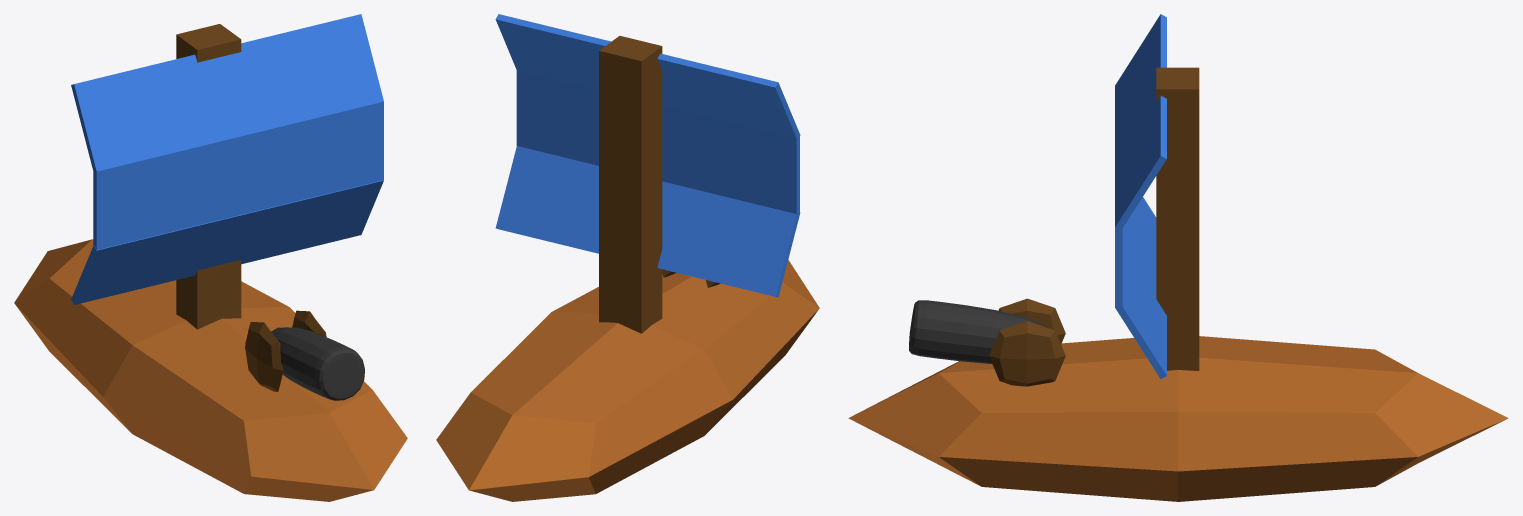
File: Level1Boat.fbx
3 renders of one model, left to right at view 1: azimuth 30°, elevation 25°; view 2: azimuth 150°, elevation 25°; view 3: azimuth 270°, elevation 25°, orthographic. The views are drawn at different scales.
Visible parts, largest first — view 1: Cube, Cube.006, Cube.003, Cube.007, Cube.002, Cube.008, Cube.004, Cube.005; view 2: Cube, Cube.007, Cube.002, Cube.003, Cube.006; view 3: Cube, Cube.002, Cube.006, Cube.007, Cube.008, Cube.005, Cube.004.
Boxes of the visible parts, x1,y1,x2,y2 form: Cube: (14,239,407,501); Cube.006: (71,14,383,172); Cube.003: (93,101,383,249); Cube.007: (71,180,383,304); Cube.002: (176,24,241,329); Cube.008: (271,327,364,400); Cube.004: (245,322,283,391); Cube.005: (292,310,326,337); Cube: (436,260,819,501); Cube.007: (495,146,800,297); Cube.002: (599,36,662,333); Cube.003: (516,70,799,213); Cube.006: (495,14,800,140); Cube: (848,336,1508,501); Cube.002: (1156,67,1199,370); Cube.006: (1115,14,1166,227); Cube.007: (1115,197,1166,378); Cube.008: (909,300,1059,363); Cube.005: (989,321,1065,386); Cube.004: (998,298,1065,344).
Size of what is drawn, in the model's own units: 1101 by 1449 by 2165.
